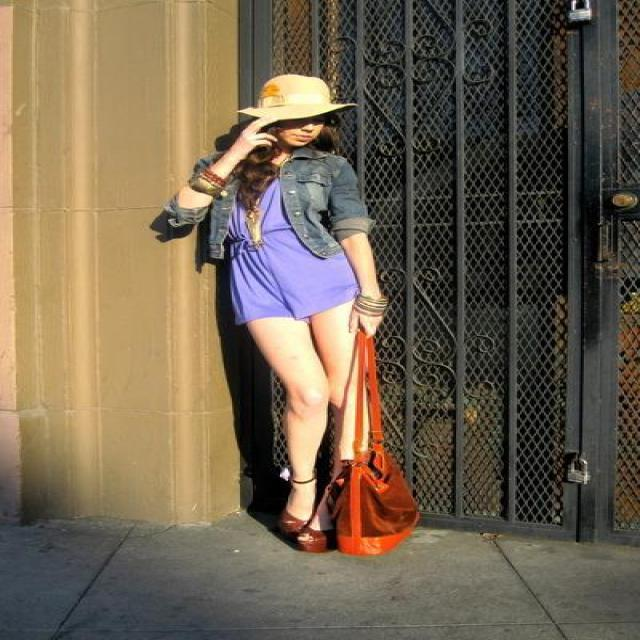bag: (288, 320, 419, 556)
dress: (213, 192, 358, 345)
hat: (250, 74, 354, 124)
jacket: (150, 148, 376, 268)
shoe: (260, 499, 342, 553)
